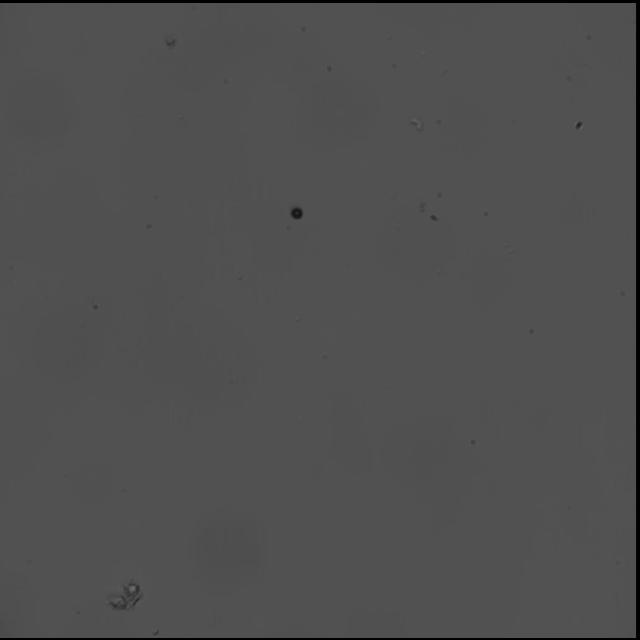microbeads: (286, 203, 306, 220)
